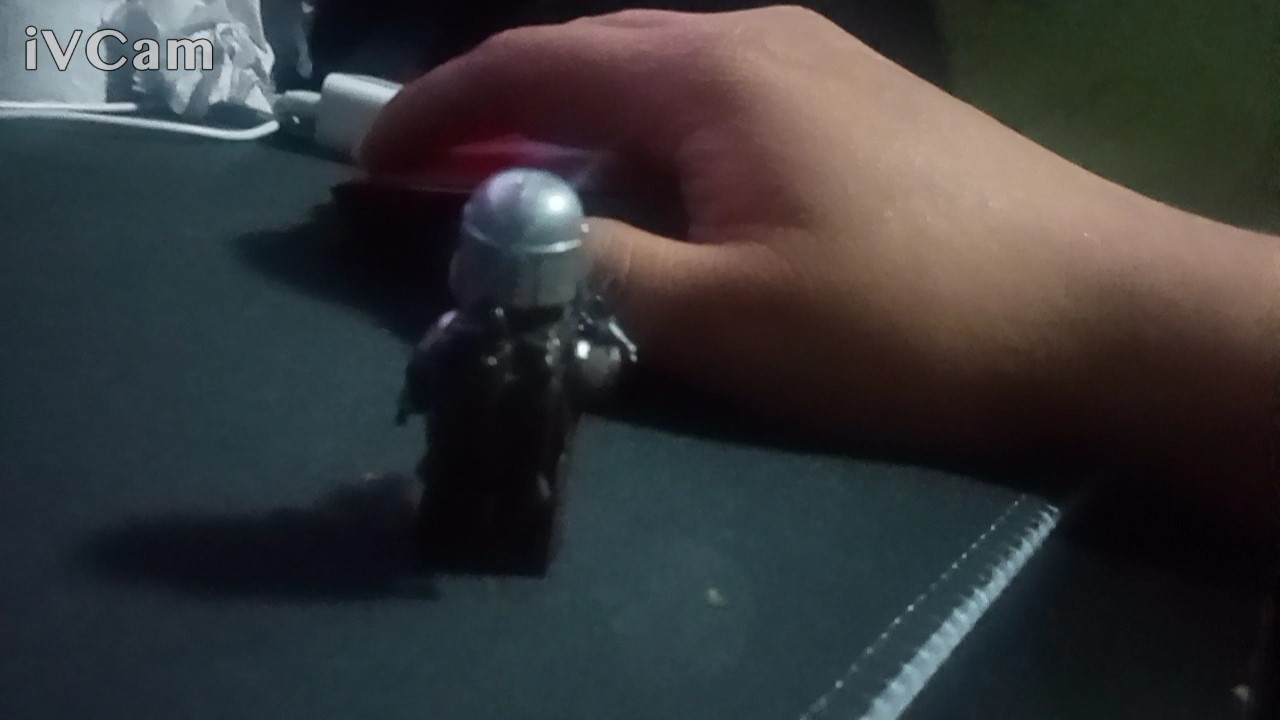mandalorian: (388, 165, 646, 582)
